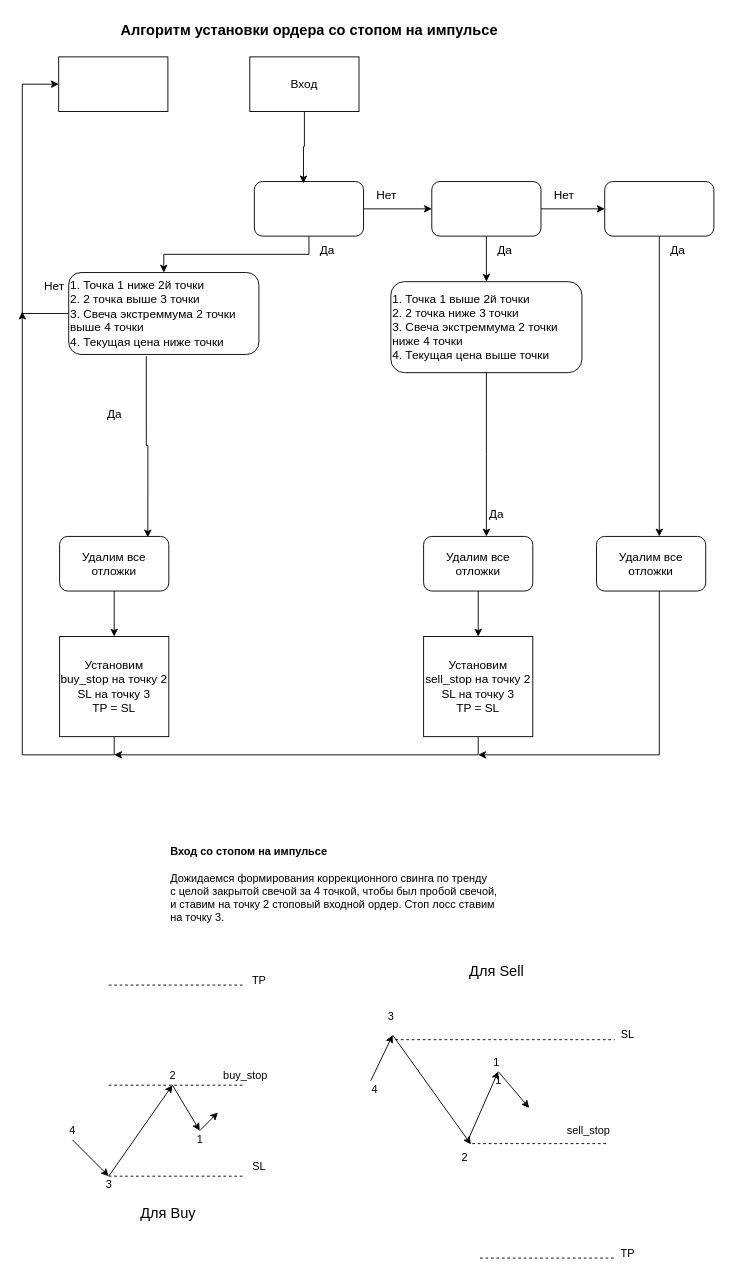
This 730x1282 diagram has some shape labels left out. The shapes that lost their labels are listed below. From the top down, each one's centre as x and y in pixels, then its label:
point 113,83: Выход
point 308,208: Тренд вверх
point 486,208: Тренд вниз
point 659,208: Флэт
